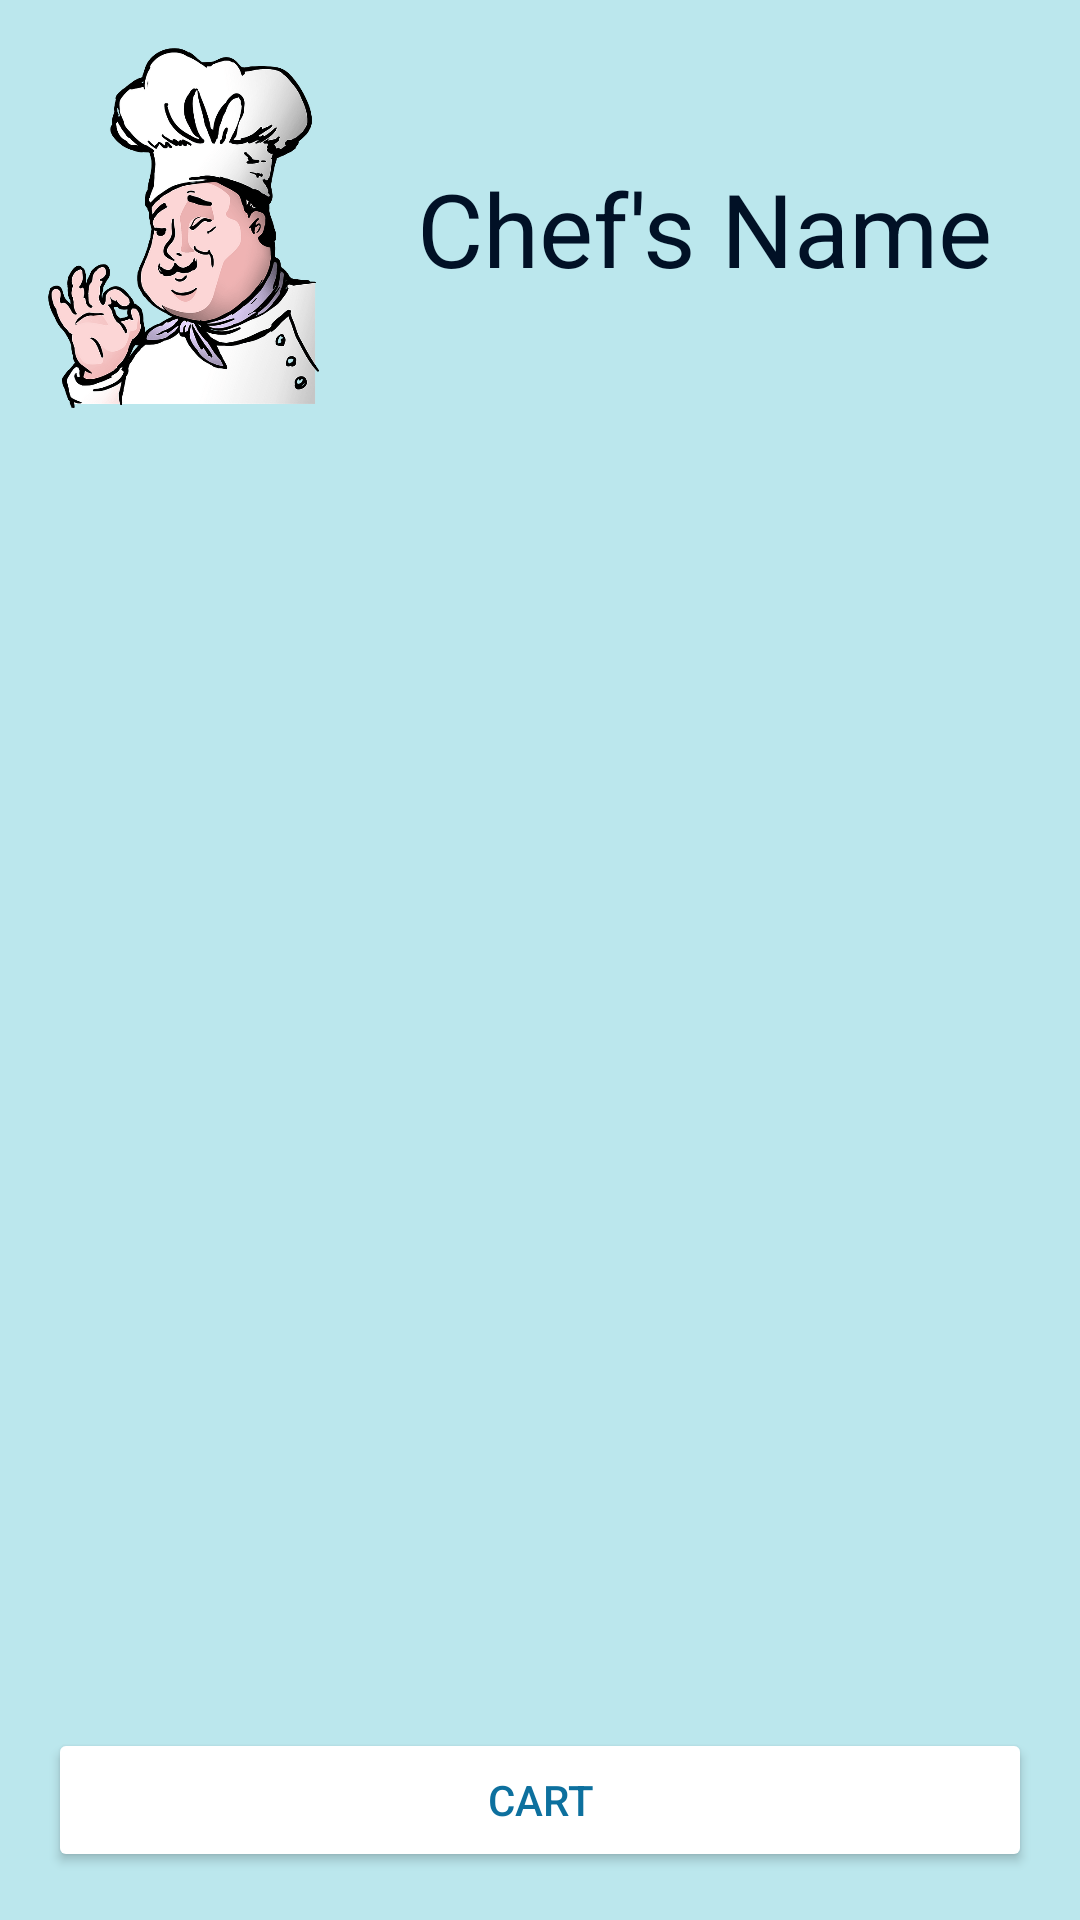

Icons on this 1080px x 1920px Android screen, each with its box as (x1, y1, x2, y2):
prochef: (48, 48, 319, 408)
